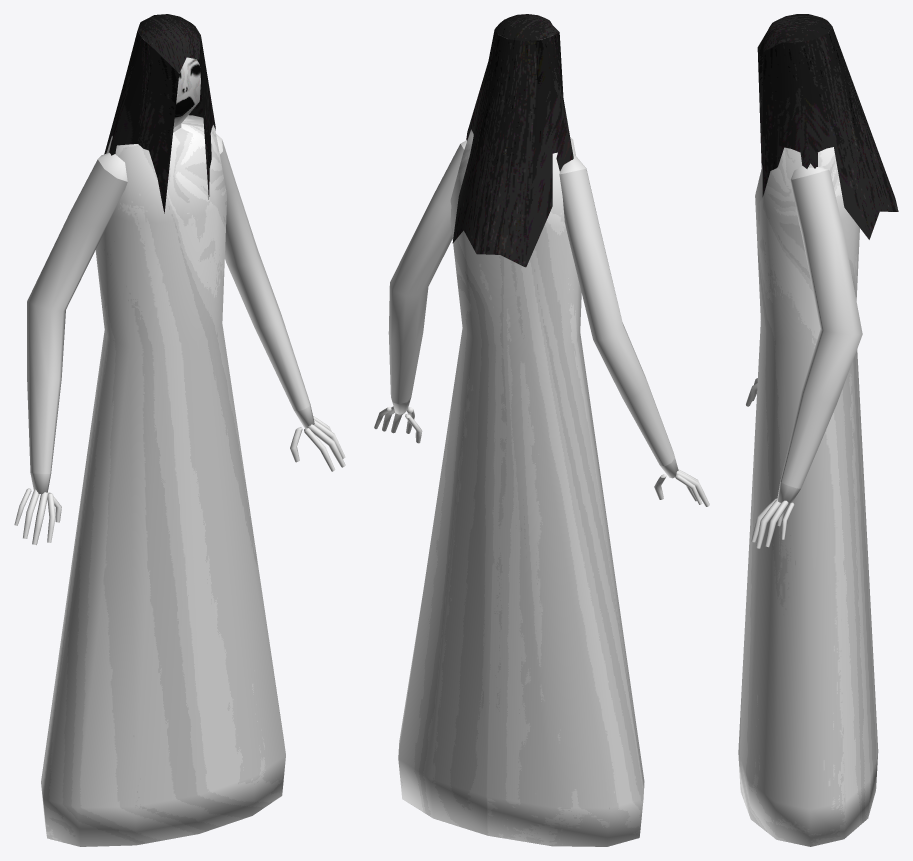
File: GhostGirl1 (merge).fbx
3 views of the same model, side by side, from view 1: azimuth 30°, elevation 25°; view 2: azimuth 150°, elevation 25°; view 3: azimuth 270°, elevation 25° (orthographic). The views are drawn at different scales.
Visible parts, largest first — view 1: GhostGirl1; view 2: GhostGirl1; view 3: GhostGirl1.
Boxes of the visible parts, bbox=[...] form: GhostGirl1: bbox=[14, 14, 345, 846]; GhostGirl1: bbox=[374, 14, 709, 846]; GhostGirl1: bbox=[738, 14, 898, 846].
Bounding box in the file's own units: 0.9335 × 2.16 × 0.4072.
